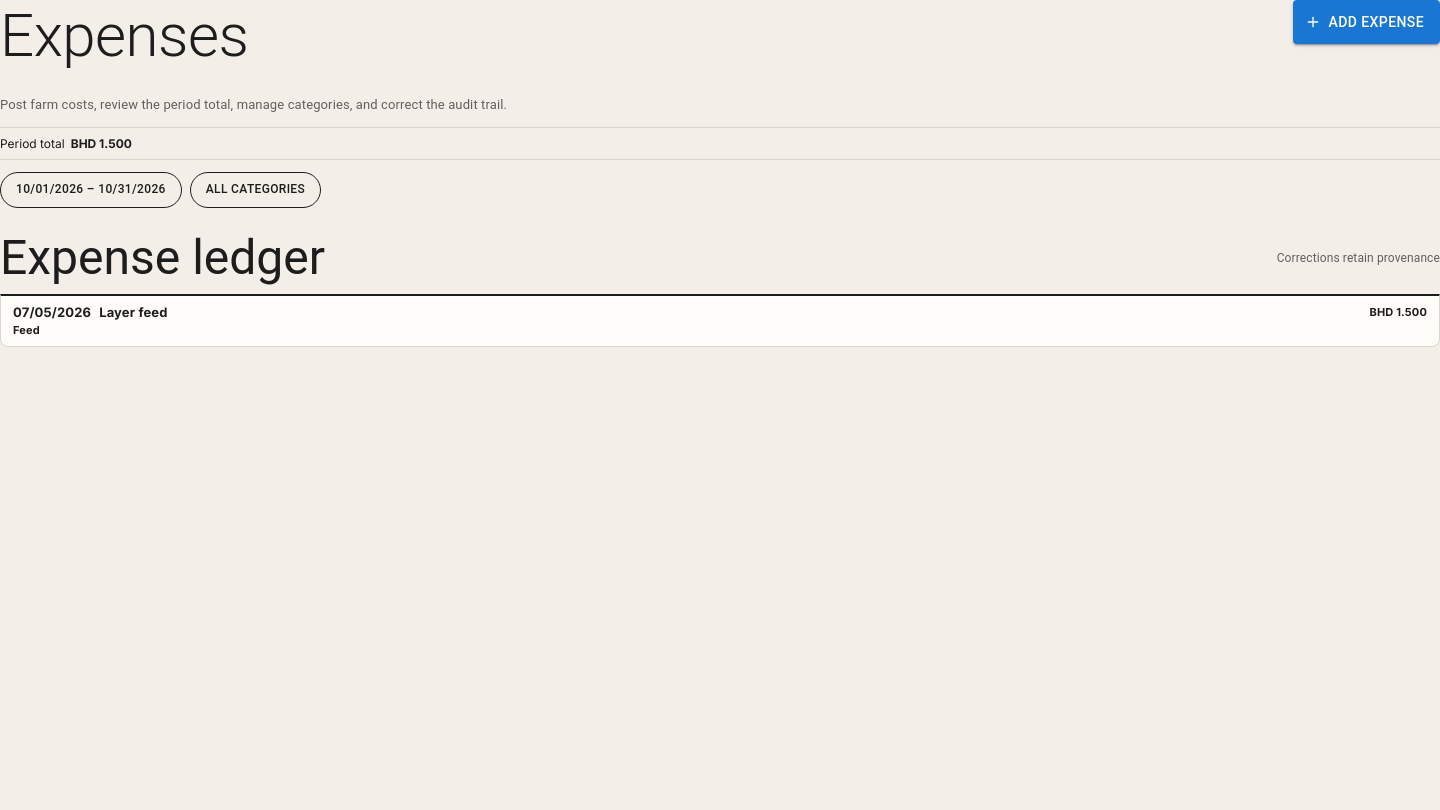
Scenario: shows a phone expense row, details and actions, and opens Add expense with category management
Click the button "07/05/2026 Layer feed BHD 1.500 Feed" at (52, 312), box [1, 296, 1439, 346]
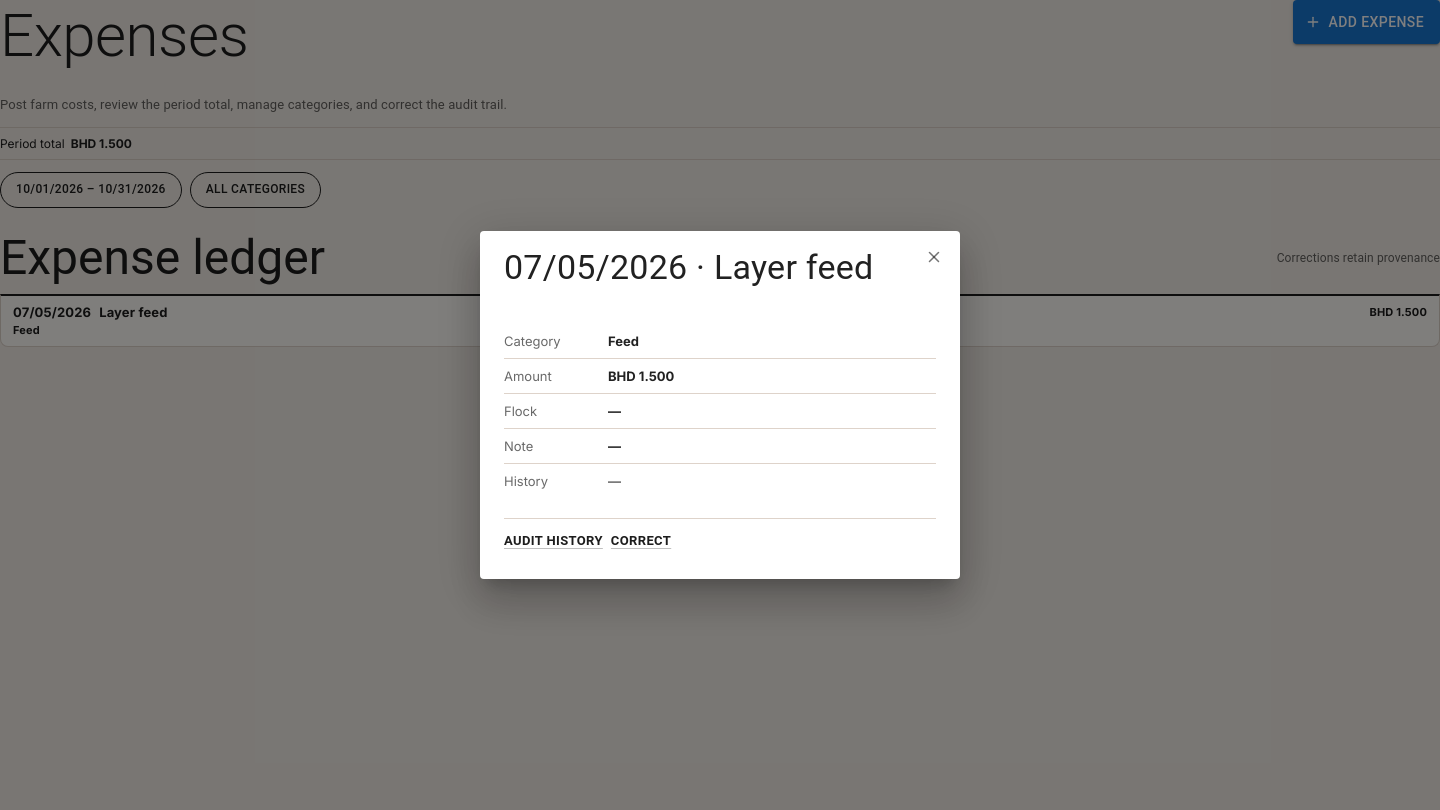
expect the text "Category" is shown: met, box [504, 334, 561, 350]
expect the text "Amount" is shown: met, box [504, 368, 552, 384]
expect the text "Flock" is shown: met, box [504, 404, 537, 420]
Click the button named "close" at (934, 256), box [920, 242, 948, 270]
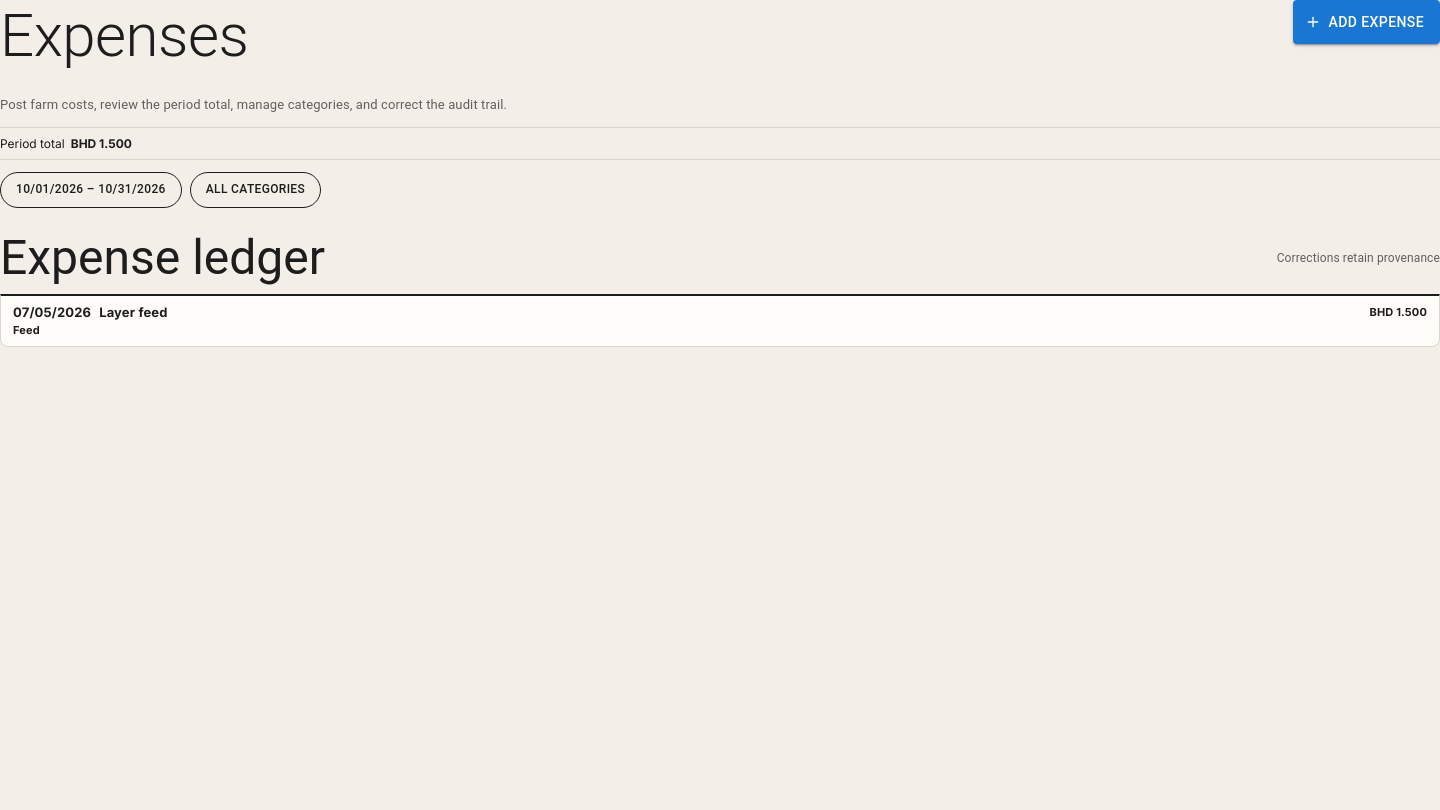
expect the dialog is gone: met
Click the button "Add expense" at (1366, 22), box [1292, 0, 1439, 44]
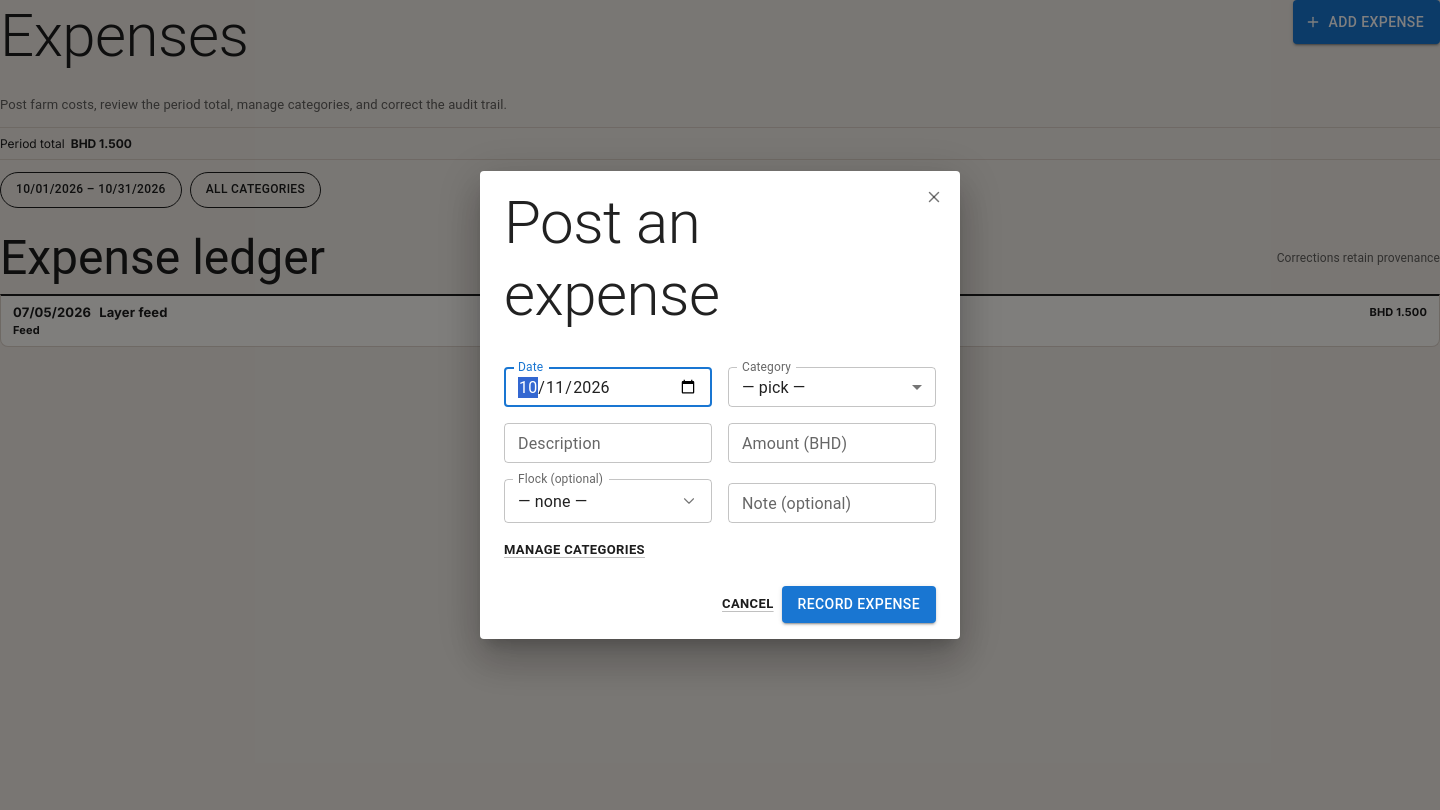
expect the field labelled "Description" is shown: met, box [504, 423, 712, 463]
expect the button "Manage categories" is shown: met, box [504, 535, 645, 566]
